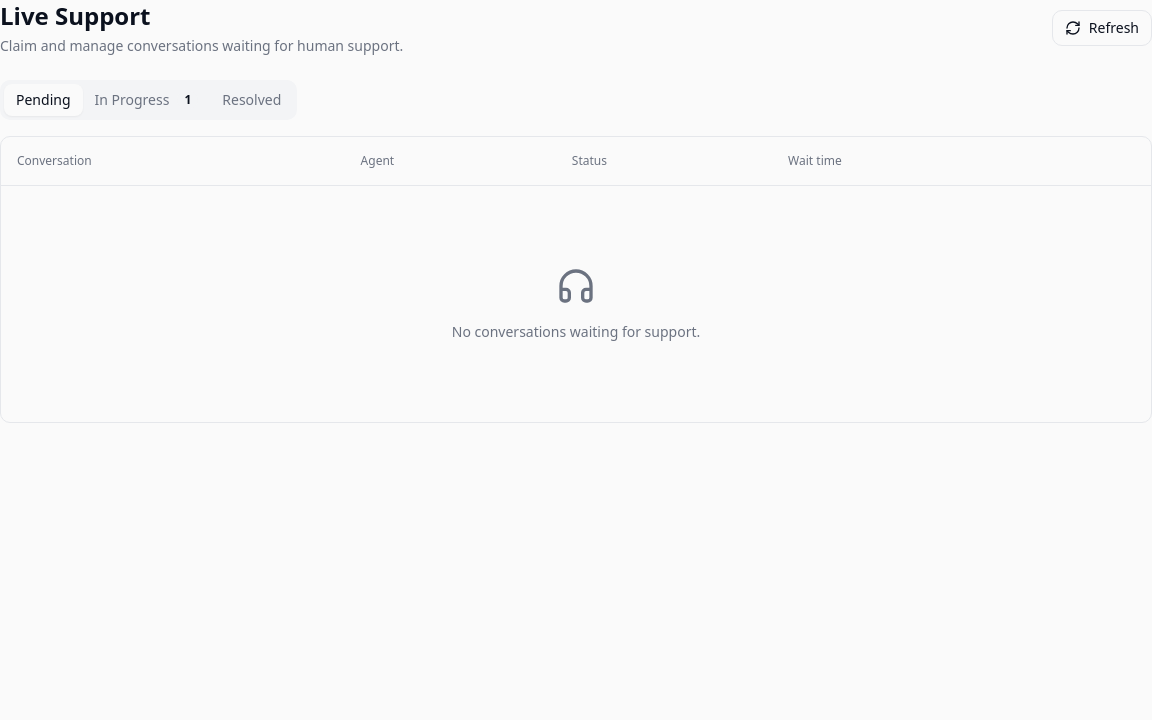
Test: ReplyDialog › opens_andLoadsMessageHistory
What coordinates should you click on to do the following:
click the tab "In Progress 1"
I would click on:
 (146, 100)
Its box is [82,84,210,116].
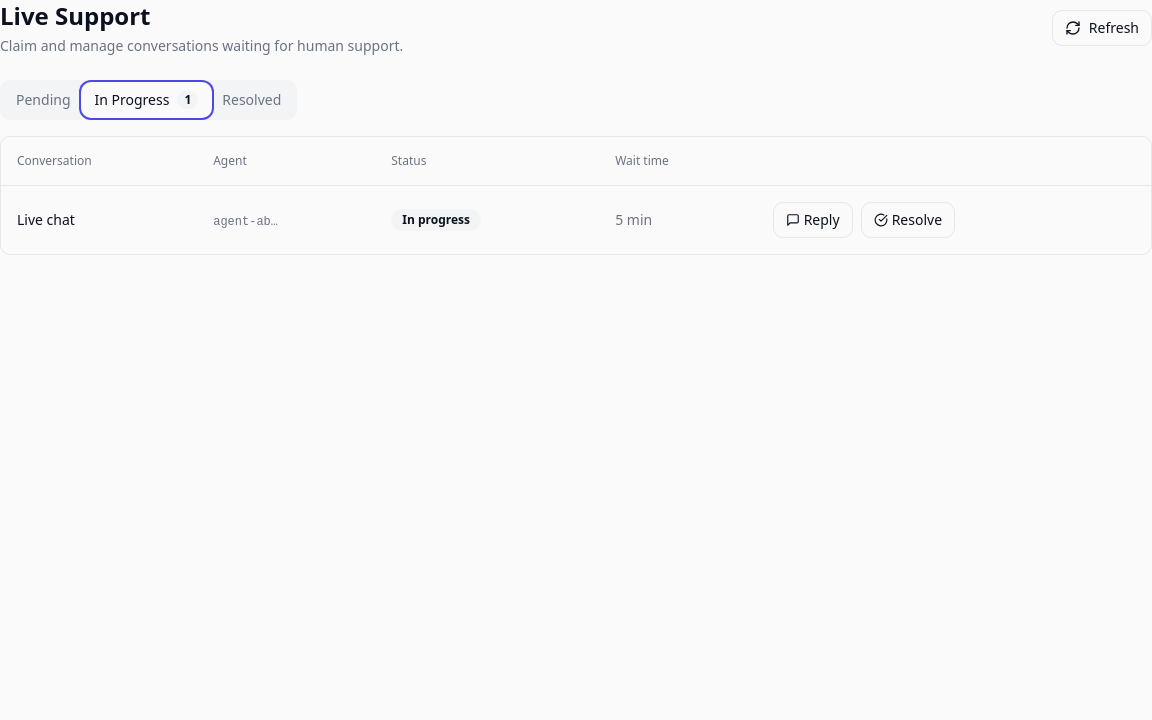
What coordinates should you click on to do the following:
click the button "Reply"
I would click on:
 (813, 220)
Its box is [773,202,853,238].
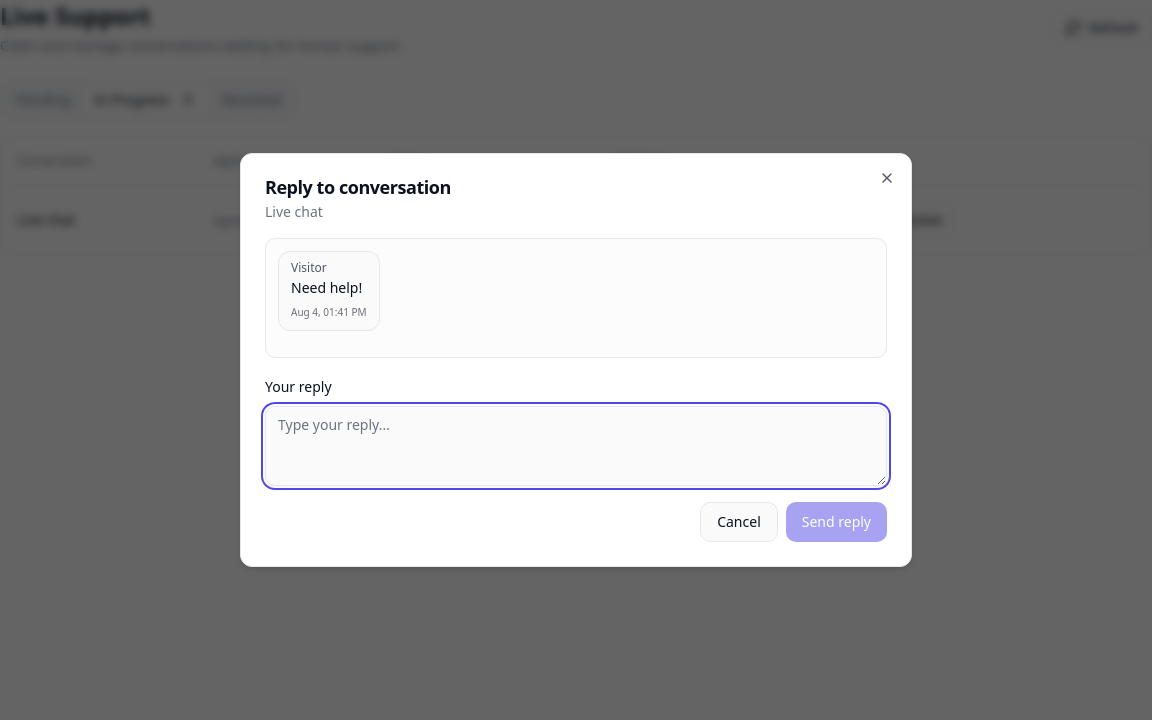
Expected: the text "Need help!" is shown, [291,278,367,298]
